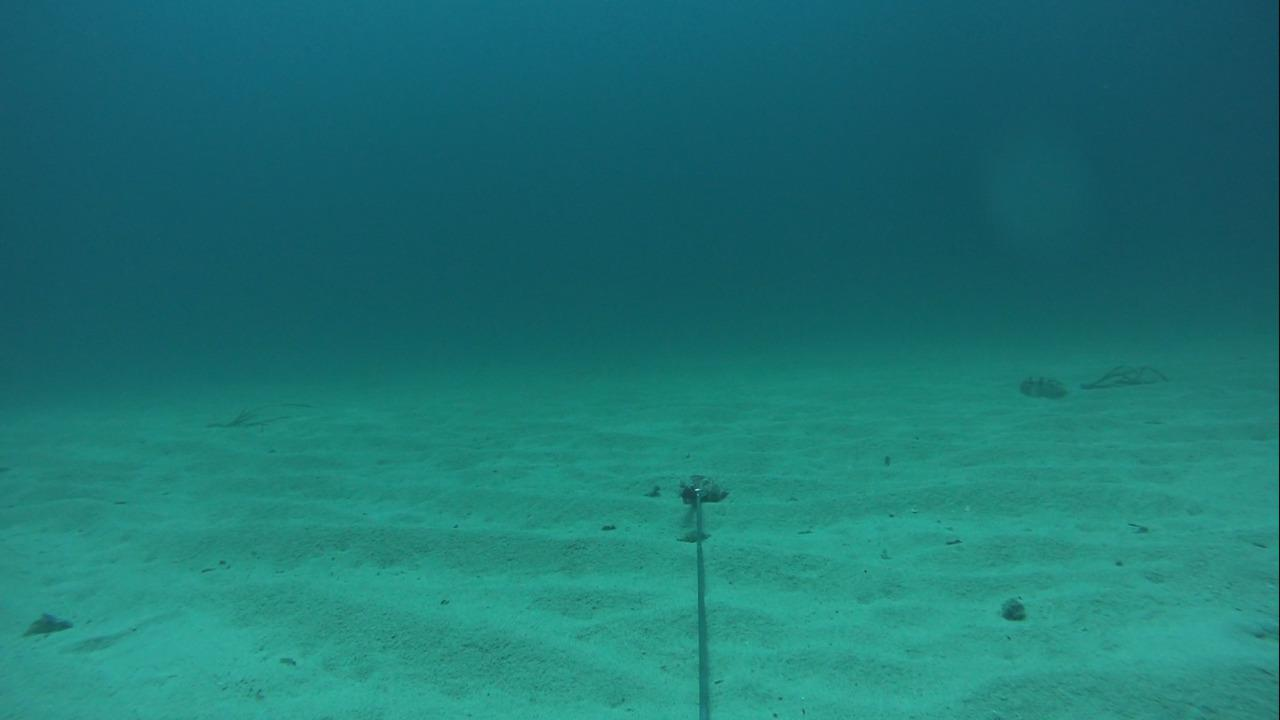raor: (1013, 371, 1072, 403)
